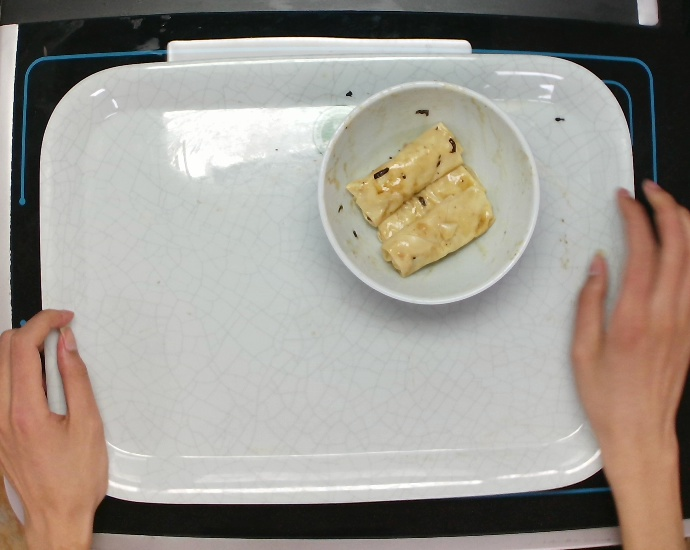JYsf-Fan_Wan: (316, 77, 551, 311)
